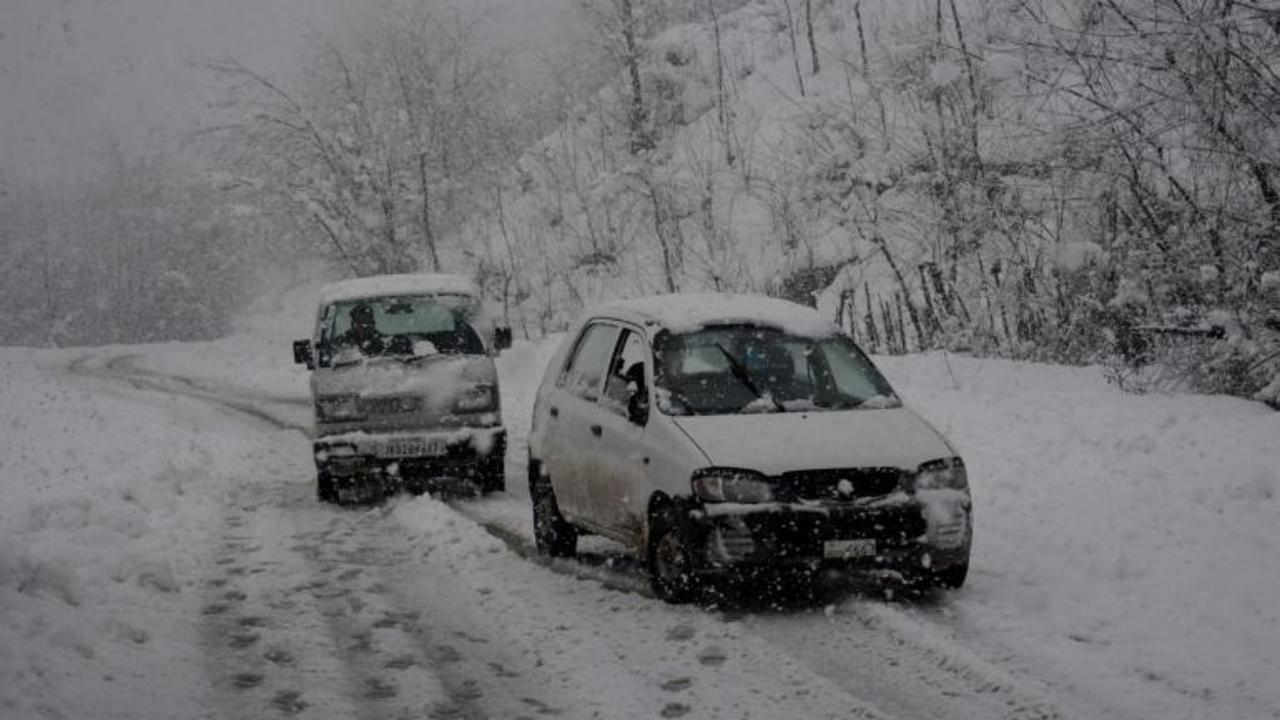car: (524, 298, 980, 604), (309, 274, 506, 501)
